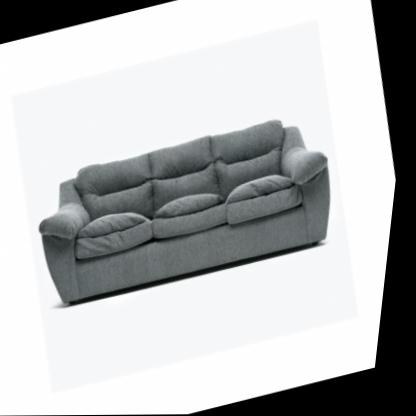Sofa: (25, 107, 355, 312)
